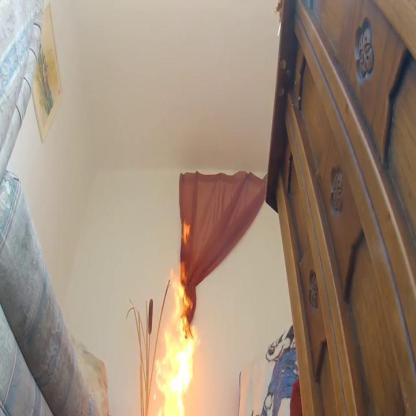fire: (154, 263, 200, 416), (182, 220, 190, 243)
